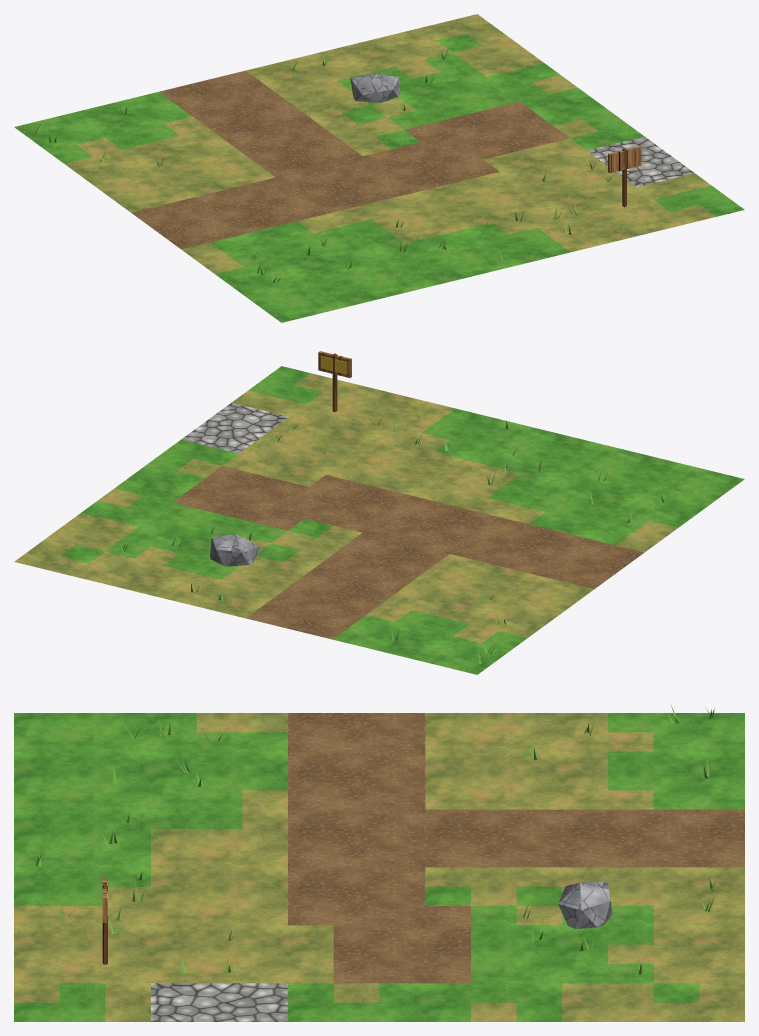
The model's file is chunk_8_5.glb.
3 renders of one model, top to bottom at view 1: azimuth 30°, elevation 25°; view 2: azimuth 150°, elevation 25°; view 3: azimuth 270°, elevation 25°, orthographic. The views are drawn at different scales.
Parts seen in each view (by area): view 1: chunk_8_5; view 2: chunk_8_5; view 3: chunk_8_5.
Boxes of the visible parts, left/top/right/bottom form: chunk_8_5: left=14, top=14, right=744, bottom=322; chunk_8_5: left=14, top=351, right=744, bottom=674; chunk_8_5: left=14, top=704, right=744, bottom=1021.
Bounding box in the file's own units: 16 × 2.29 × 16.
9 materials, 7 textured.
